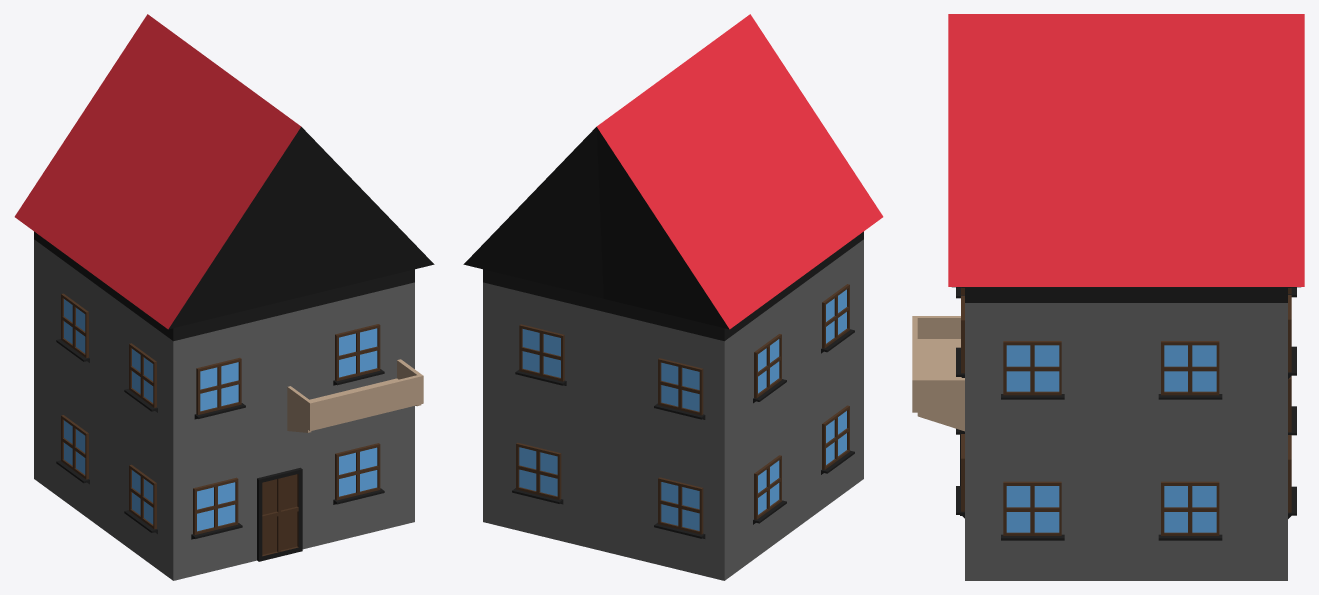
The model's file is cityasset_house_1.fbx.
3 views of the same model, side by side, from view 1: azimuth 30°, elevation 25°; view 2: azimuth 150°, elevation 25°; view 3: azimuth 270°, elevation 25° (orthographic). The views are drawn at different scales.
Visible parts, largest first — view 1: Cube, Cube.014, Cube.011, Cube.013, Cube.002, Cube.001, Cube.012, Cube.016, Cube.017, Cube.018, Cube.019; view 2: Cube, Cube.022, Cube.020, Cube.021, Cube.023, Cube.017, Cube.018, Cube.019, Cube.016; view 3: Cube, Cube.014, Cube.015, Cube.005, Cube.004, Cube.003.
Boxes of the visible parts, box(x1,y1,x2,y2) form: Cube: box(14, 14, 434, 580); Cube.014: box(287, 359, 423, 432); Cube.011: box(257, 467, 302, 561); Cube.013: box(333, 443, 384, 504); Cube.002: box(194, 357, 245, 419); Cube.001: box(333, 324, 384, 385); Cube.012: box(191, 477, 242, 539); Cube.016: box(56, 293, 89, 362); Cube.017: box(124, 343, 157, 412); Cube.018: box(56, 415, 89, 484); Cube.019: box(124, 464, 157, 534); Cube: box(463, 14, 883, 580); Cube.022: box(654, 358, 705, 419); Cube.020: box(512, 442, 563, 504); Cube.021: box(654, 477, 705, 538); Cube.023: box(515, 324, 566, 385); Cube.017: box(821, 284, 854, 353); Cube.018: box(753, 455, 786, 524); Cube.019: box(821, 405, 854, 474); Cube.016: box(753, 334, 786, 403); Cube: box(948, 14, 1304, 580); Cube.014: box(912, 316, 964, 431); Cube.015: box(1158, 481, 1222, 540); Cube.005: box(1001, 481, 1064, 540); Cube.004: box(1158, 341, 1222, 399); Cube.003: box(1001, 341, 1064, 399).
Bounding box in the file's own units: 221 × 340 × 243.
